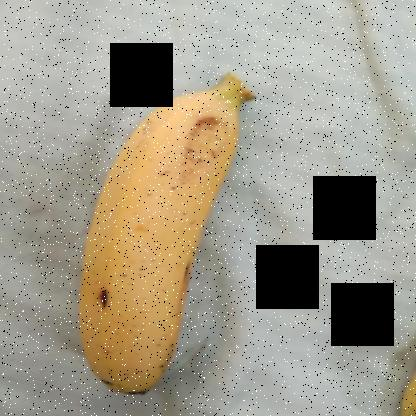freshripe: (61, 93, 239, 392)
